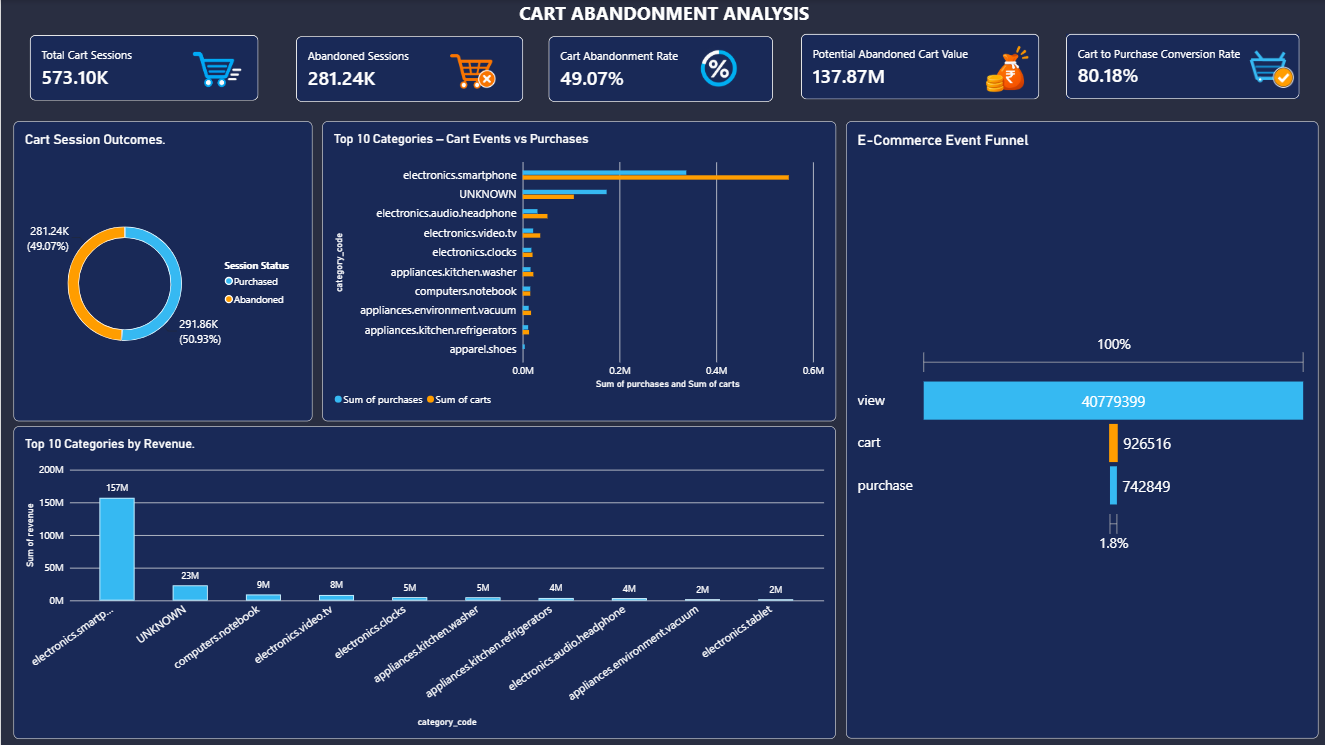

Layout of this report page (visuals, bound fields, positions):
{"tool":"powerbi","page":{"name":"Cart Abandonment Analysis","canvas":[1920,1080],"ordinal":1},"visuals":[{"type":"cardVisual","fields":{"Data":["brand_performance.Total Cart Sessions"]},"box":[41.6,50.7,331.2,95.9],"z":0},{"type":"textbox","box":[0,0,1920.4,61.7],"z":1000},{"type":"cardVisual","fields":{"Data":["brand_performance.Abandoned Sessions"]},"box":[427.1,52.5,329.4,95.9],"z":2000},{"type":"cardVisual","fields":{"Data":["brand_performance.Cart Abandonment Rate"]},"box":[792.6,52.5,325.7,95.9],"z":3000},{"type":"cardVisual","fields":{"Data":["brand_performance.Potential Abandoned Cart Value"]},"box":[1158.2,48.9,345.6,95.9],"z":4000},{"type":"image","box":[237.1,61.5,152,76],"z":5000},{"type":"image","box":[613.5,68.8,146.6,68.8],"z":6000},{"type":"image","box":[960.9,61.5,157.4,72.4],"z":7000},{"type":"image","box":[1380.8,61.5,148.4,76],"z":8000},{"type":"donutChart","title":"Cart Session Outcomes.","fields":{"Category":["Cart Session Outcomes.Session Status"],"Y":["Cart Session Outcomes.Cart Outcome Count"]},"box":[18.1,175.5,432.5,434.3],"z":9000},{"type":"clusteredBarChart","title":"Top 10 Categories – Cart Events vs Purchases","fields":{"Category":["category_performance.category_code"],"Y":["Sum(category_performance.purchases)","Sum(category_performance.carts)"]},"box":[465.1,175.5,743.8,434.3],"z":10000},{"type":"clusteredColumnChart","title":"Top 10 Categories by Revenue.","fields":{"Category":["category_performance.category_code"],"Y":["Sum(category_performance.revenue)"]},"box":[18.1,617.1,1190.8,452.4],"z":11000},{"type":"funnel","title":"E-Commerce Event Funnel","fields":{"Category":["event_distribution.event_type"],"Y":["Sum(event_distribution.count)"]},"box":[1223.3,175.5,684.1,894],"z":12000},{"type":"cardVisual","fields":{"Data":["Cart Session Outcomes.Cart to Purchase Conversion Rate"]},"box":[1541.8,48.9,338.4,94.1],"z":12001},{"type":"image","box":[1787.9,50.7,92.3,83.2],"z":12002}]}

Visuals, with their boxes in screenshot pixels (x1, y1, x2, y2), scaled from the page's 1920x1080 canvas onto the 1325x745 screenshot:
cardVisual - brand_performance.Total Cart Sessions: bbox=(29, 35, 257, 101)
textbox: bbox=(0, 0, 1324, 43)
cardVisual - brand_performance.Abandoned Sessions: bbox=(295, 36, 522, 102)
cardVisual - brand_performance.Cart Abandonment Rate: bbox=(547, 36, 772, 102)
cardVisual - brand_performance.Potential Abandoned Cart Value: bbox=(799, 34, 1038, 100)
image: bbox=(164, 42, 269, 95)
image: bbox=(423, 47, 525, 95)
image: bbox=(663, 42, 772, 92)
image: bbox=(953, 42, 1055, 95)
"Cart Session Outcomes." donutChart: bbox=(12, 121, 311, 421)
"Top 10 Categories – Cart Events vs Purchases" clusteredBarChart: bbox=(321, 121, 834, 421)
"Top 10 Categories by Revenue." clusteredColumnChart: bbox=(12, 426, 834, 738)
"E-Commerce Event Funnel" funnel: bbox=(844, 121, 1316, 738)
cardVisual - Cart Session Outcomes.Cart to Purchase Conversion Rate: bbox=(1064, 34, 1298, 99)
image: bbox=(1234, 35, 1298, 92)
